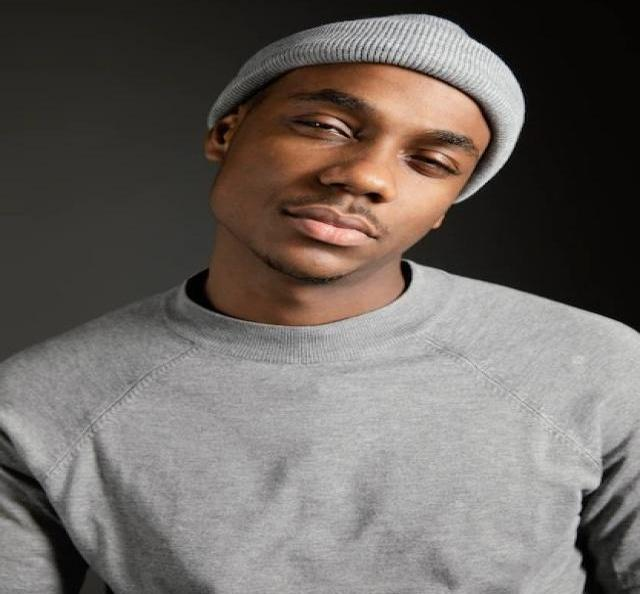no hat: (139, 1, 571, 241)
no vest: (3, 226, 640, 594)
